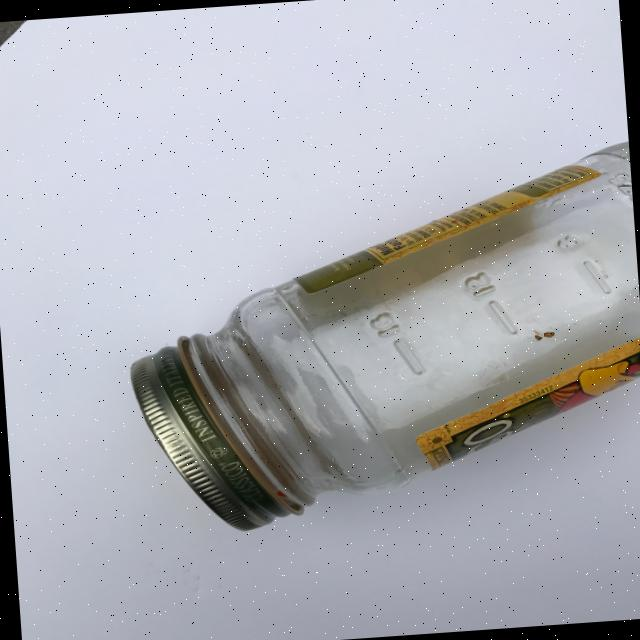glass: (114, 140, 640, 539)
